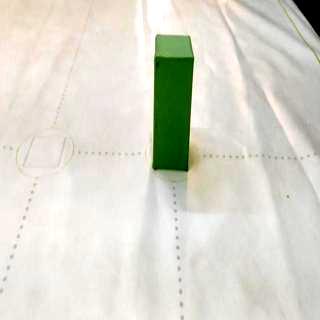greenbox: (152, 30, 196, 174)
